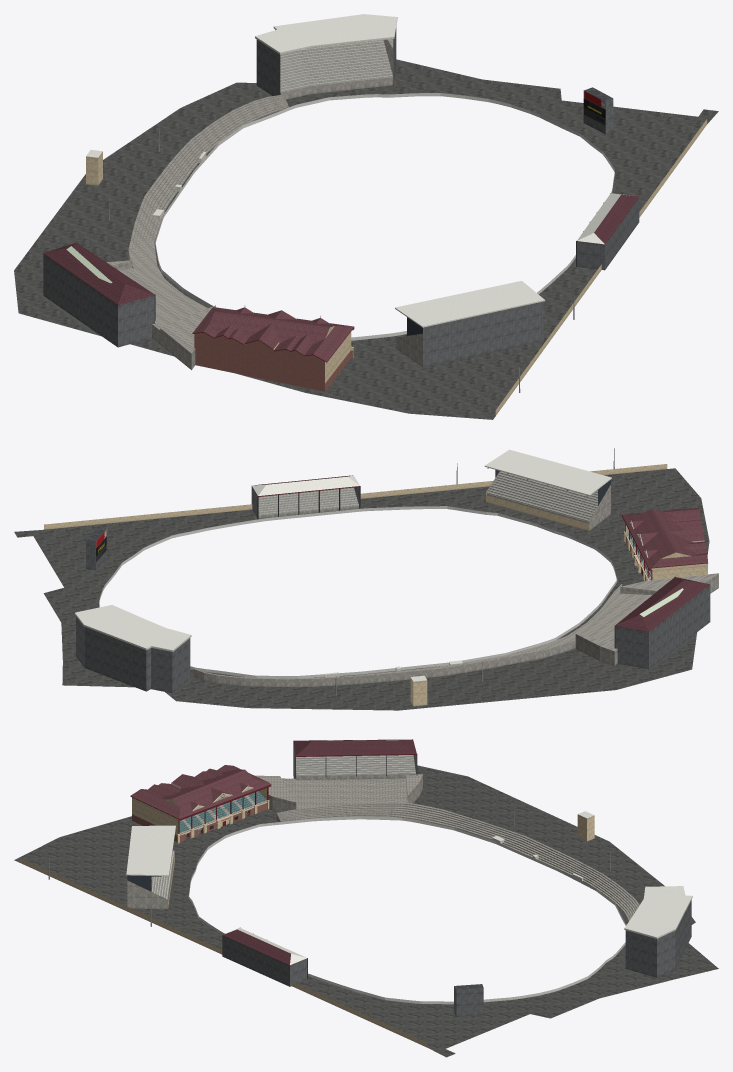
The model's file is northhobart1992.glb.
3 renders of one model, top to bottom at view 1: azimuth 30°, elevation 25°; view 2: azimuth 150°, elevation 25°; view 3: azimuth 270°, elevation 25°, orthographic. The views are drawn at different scales.
Parts seen in each view (by area): view 1: ground, north_terrace, se, gor_walls, lewis, gor_roof, letitia, letitia_bench, letitia_roof, east_bank, se_roof, lewis_roof (+5 smaller); view 2: ground, letitia, north_terrace, gor_roof, lewis, oval_fence, se, east_bank, letitia_roof, se_roof, se_bench, ryde_wall (+7 smaller); view 3: ground, north_terrace, east_bank, gor_roof, oval_fence, letitia, letitia_roof, lewis_bench, se_roof, gor_walls, lewis, lewis_roof (+5 smaller).
Boxes of the visible parts, x1,y1,x2,y2 form: ground: (14, 59, 718, 419); north_terrace: (128, 94, 289, 308); se: (396, 301, 543, 367); gor_walls: (194, 331, 353, 391); lewis: (43, 242, 155, 347); gor_roof: (193, 307, 353, 361); letitia: (256, 28, 396, 99); letitia_bench: (280, 40, 392, 92); letitia_roof: (255, 14, 397, 54); east_bank: (107, 260, 215, 370); se_roof: (395, 281, 545, 327); lewis_roof: (43, 242, 154, 305); ground: (14, 468, 709, 710); letitia: (76, 616, 190, 693); north_terrace: (193, 584, 622, 686); gor_roof: (622, 507, 707, 568); lewis: (614, 576, 710, 669); oval_fence: (99, 506, 617, 678); se: (486, 471, 610, 530); east_bank: (575, 573, 718, 665); letitia_roof: (74, 605, 191, 651); se_roof: (484, 449, 611, 495); se_bench: (487, 472, 597, 521); ryde_wall: (44, 464, 667, 529); ground: (14, 765, 718, 1057); north_terrace: (276, 802, 639, 920); east_bank: (255, 774, 422, 812); gor_roof: (130, 765, 270, 818); oval_fence: (188, 816, 626, 1004); letitia: (625, 900, 691, 977); letitia_roof: (624, 886, 692, 938); lewis_bench: (296, 755, 415, 775); se_roof: (126, 825, 175, 876); gor_walls: (132, 788, 269, 843); lewis: (293, 741, 417, 779); lewis_roof: (293, 739, 416, 756).
Bounding box in the file's own units: 234 × 15.64 × 234.
Materials: 27 (27 with a texture image).
